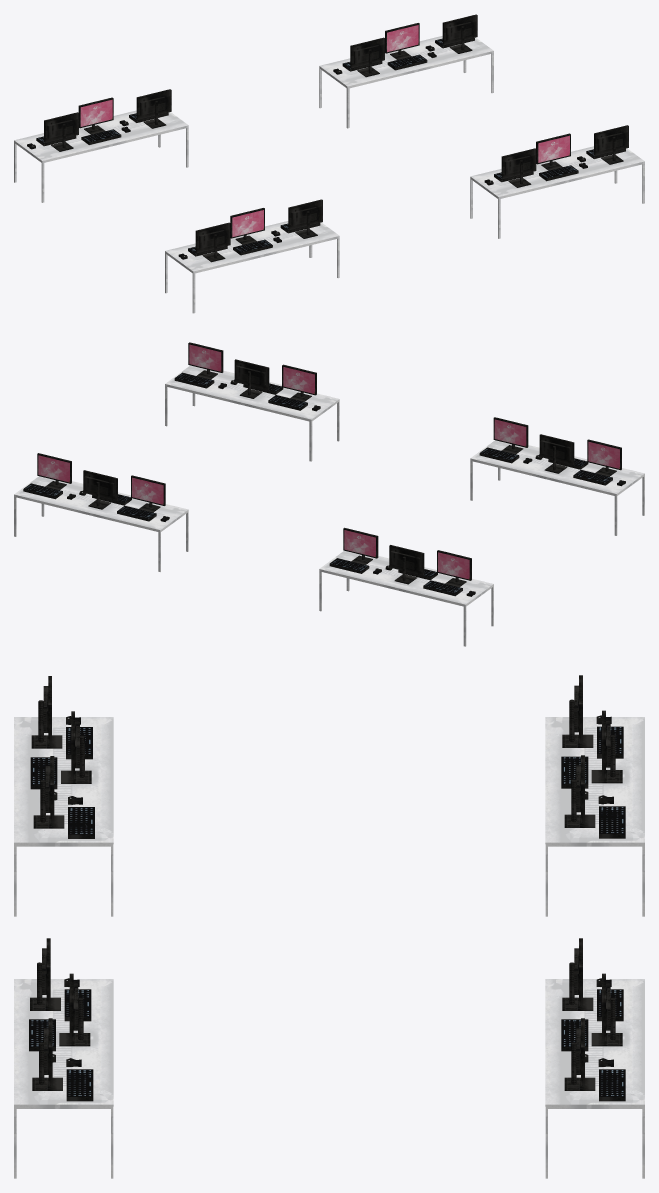
Rendered from cluster.obj.
The picture shows the model from 3 angles, top to bottom: view 1: azimuth 30°, elevation 25°; view 2: azimuth 150°, elevation 25°; view 3: azimuth 270°, elevation 25°; orthographic projection. The views are drawn at different scales.
Parts seen in each view (by area): view 1: computer.004, computer.003, computer.002, computer.001, top.003, top.009, top.004, top.008; view 2: computer.001, computer.004, computer.002, computer.003, top.008, top.004, top.003, top.009; view 3: top.004, top.009, top.008, top.003, computer.002, computer.004, computer.003, computer.001.
Part boxes in pixels (box(x1,y1,x2,y2)): computer.004: box(27, 89, 171, 151); computer.003: box(333, 14, 477, 77); computer.002: box(484, 125, 628, 187); computer.001: box(178, 199, 322, 262); top.003: box(165, 221, 339, 313); top.009: box(319, 36, 493, 128); top.004: box(14, 110, 188, 202); top.008: box(470, 146, 644, 238); computer.001: box(479, 417, 625, 486); computer.004: box(329, 527, 475, 596); computer.002: box(174, 342, 320, 411); computer.003: box(23, 453, 169, 521); top.008: box(165, 365, 339, 461); top.004: box(319, 550, 493, 646); top.003: box(470, 440, 644, 535); top.009: box(14, 476, 188, 571); top.004: box(545, 717, 644, 916); top.009: box(545, 979, 644, 1178); top.008: box(14, 979, 113, 1178); top.003: box(14, 717, 113, 916); computer.002: box(29, 938, 93, 1101); computer.004: box(561, 675, 625, 838); computer.003: box(561, 938, 625, 1101); computer.001: box(30, 676, 94, 838).
Bounding box in the file's own units: 10.36 × 1.57 × 7.12.
2 materials, 2 textured.
